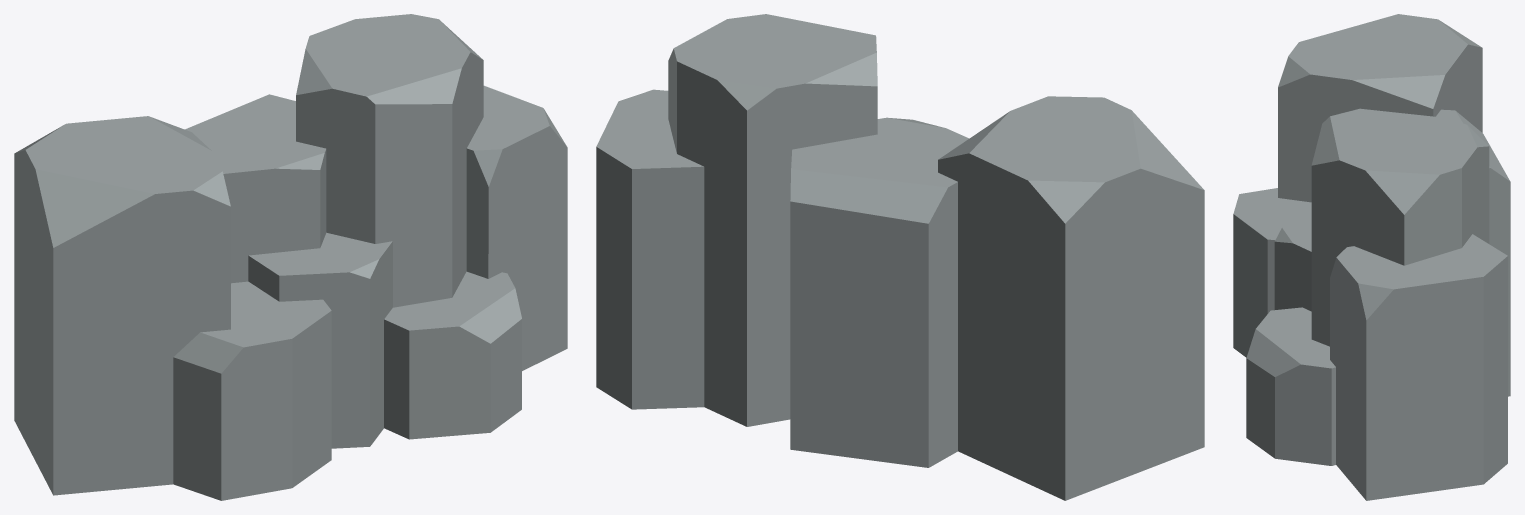
The model's file is NHP_Rock_Wall_B1_02.fbx.
3 views of the same model, side by side, from view 1: azimuth 30°, elevation 25°; view 2: azimuth 150°, elevation 25°; view 3: azimuth 270°, elevation 25° (orthographic). The views are drawn at different scales.
Parts seen in each view (by area): view 1: NHP_Rock_Wall_B1_02; view 2: NHP_Rock_Wall_B1_02; view 3: NHP_Rock_Wall_B1_02.
Part boxes in pixels (bbox=[...]): NHP_Rock_Wall_B1_02: bbox=[14, 14, 567, 500]; NHP_Rock_Wall_B1_02: bbox=[596, 14, 1204, 500]; NHP_Rock_Wall_B1_02: bbox=[1233, 14, 1510, 500].
Size of the model in its own units: 3.46 by 1.98 by 1.73.
